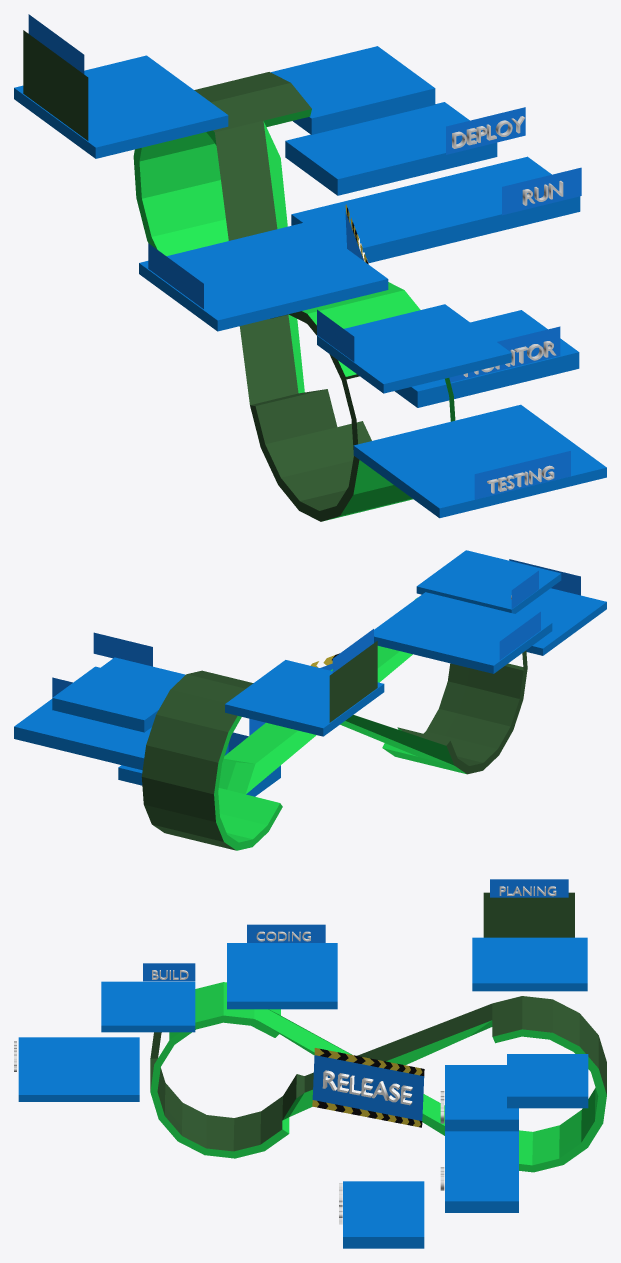
File: devops.glb
The picture shows the model from 3 angles, top to bottom: view 1: azimuth 30°, elevation 25°; view 2: azimuth 150°, elevation 25°; view 3: azimuth 270°, elevation 25°; orthographic projection. The views are drawn at different scales.
Parts seen in each view (by area): view 1: Cubo, Texto.005, Texto.002; view 2: Cubo; view 3: Cubo, Texto.004.
Boxes of the visible parts, bbox=[...] form: Cubo: bbox=[14, 14, 606, 521]; Texto.005: bbox=[452, 116, 524, 148]; Texto.002: bbox=[487, 465, 554, 493]; Cubo: bbox=[14, 550, 606, 850]; Cubo: bbox=[18, 879, 606, 1248]; Texto.004: bbox=[322, 1070, 412, 1105].
Size of the model in its own units: 5.33 by 3.27 by 7.49.
